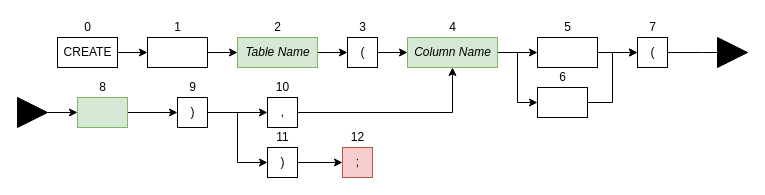
Image size: 765x195. Some labels were removed from this diagram. The shapes that lost their labels are listed below. From the top down, each one's centre as x and y in pixels, then its label:
At [177,52]: "TABLE".
At [567,52]: "NUMBER".
At [102,112]: "Size".
At [562,102]: "CHAR".
